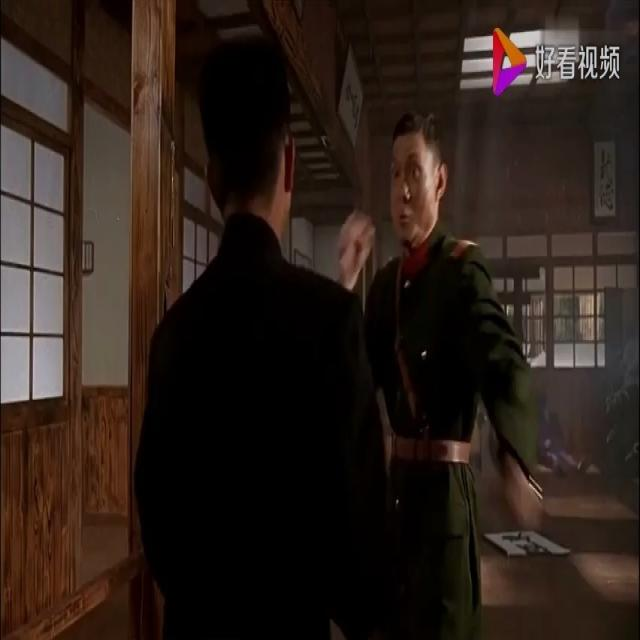fight: (115, 56, 585, 639)
